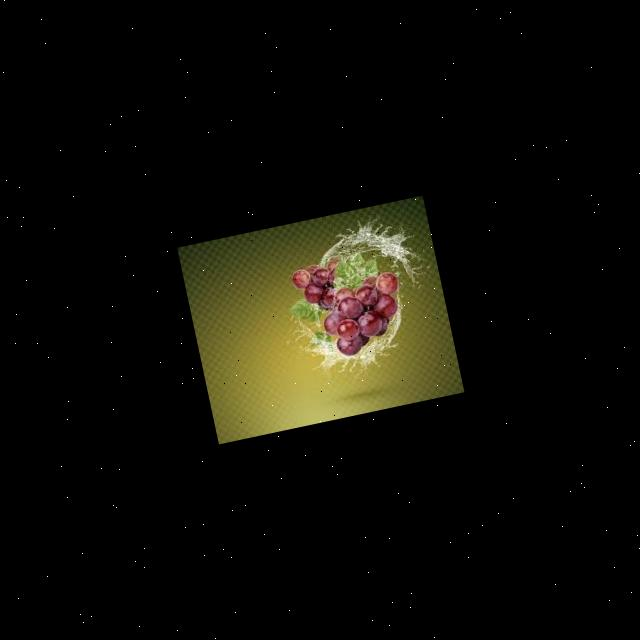grape: (288, 246, 412, 364)
